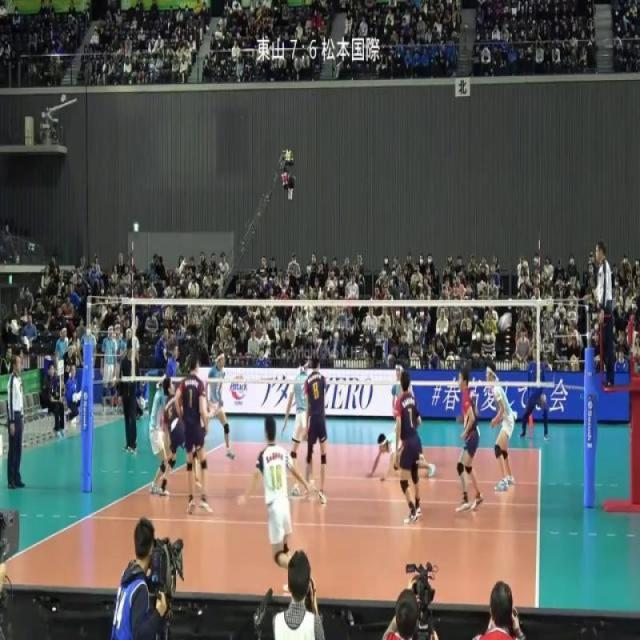volleyball: (498, 312, 512, 332)
